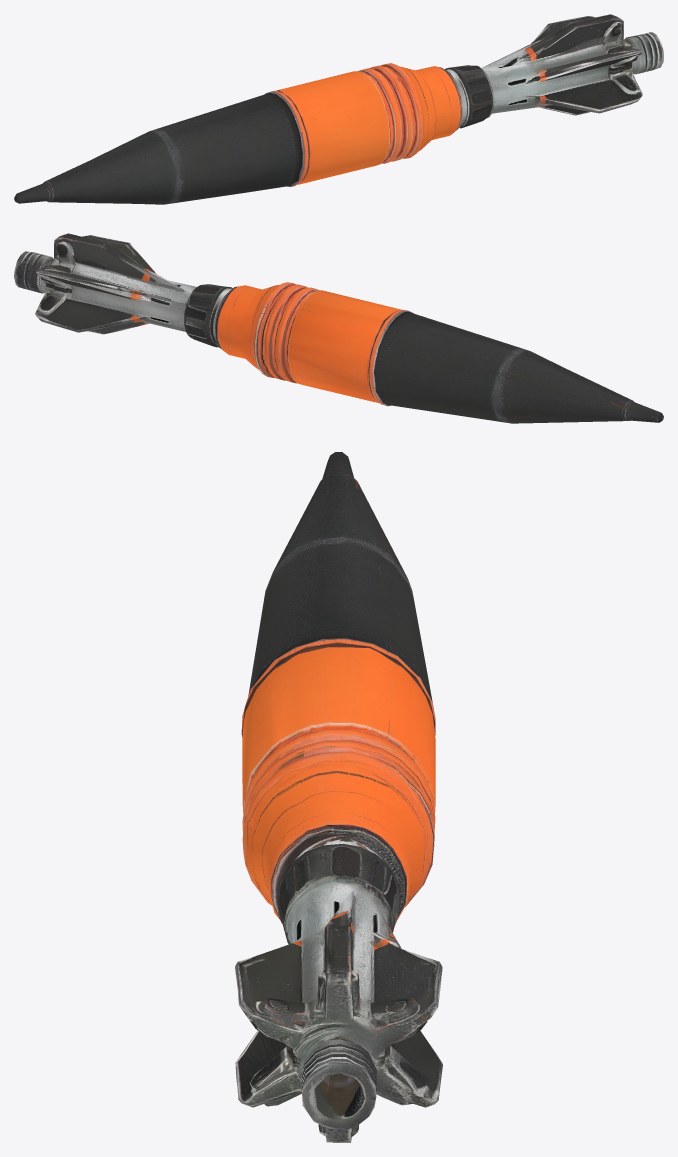
Rendered from rpg-rocket.glb.
3 renders of one model, top to bottom at view 1: azimuth 30°, elevation 25°; view 2: azimuth 150°, elevation 25°; view 3: azimuth 270°, elevation 25°, orthographic. The views are drawn at different scales.
Parts seen in each view (by area): view 1: Mesh_0; view 2: Mesh_0; view 3: Mesh_0.
Part boxes in pixels (left/top/right/bottom): Mesh_0: left=14, top=14, right=663, bottom=204; Mesh_0: left=14, top=233, right=663, bottom=423; Mesh_0: left=235, top=452, right=442, bottom=1142.
Size of the model in its own units: 1.91 by 0.2567 by 0.2694.
1 material, 1 textured.
